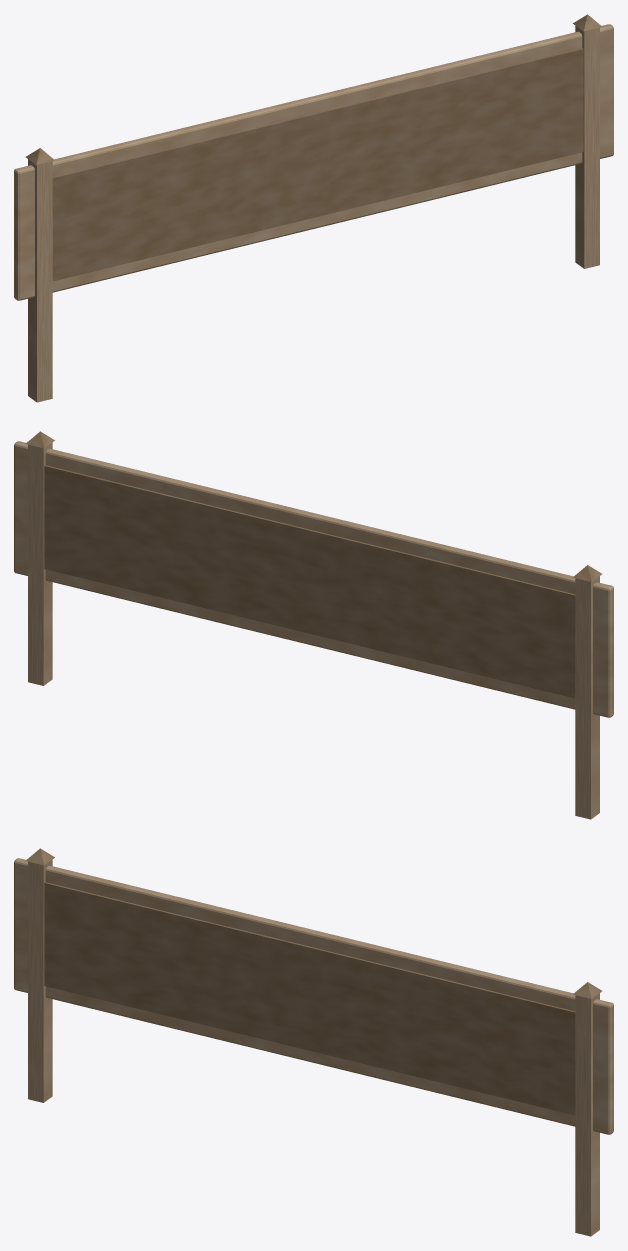
Rendered from sign.glb.
3 renders of one model, top to bottom at view 1: azimuth 30°, elevation 25°; view 2: azimuth 150°, elevation 25°; view 3: azimuth 330°, elevation 25°, orthographic.
Parts seen in each view (by area): view 1: Cube.007, Cube.005, Cube.003, Cube.004; view 2: Cube.006, Cube.005, Cube.003, Cube.004; view 3: Cube.007, Cube.005, Cube.004, Cube.003.
Boxes of the visible parts, left/top/right/bottom form: Cube.007: left=52, top=48, right=583, bottom=281; Cube.005: left=14, top=24, right=613, bottom=300; Cube.003: left=28, top=159, right=52, bottom=402; Cube.004: left=575, top=26, right=599, bottom=268; Cube.006: left=44, top=465, right=575, bottom=698; Cube.005: left=14, top=441, right=613, bottom=717; Cube.003: left=575, top=576, right=599, bottom=819; Cube.004: left=28, top=443, right=52, bottom=685; Cube.007: left=44, top=882, right=575, bottom=1115; Cube.005: left=14, top=858, right=613, bottom=1134; Cube.004: left=575, top=993, right=599, bottom=1236; Cube.003: left=28, top=860, right=52, bottom=1102.
Size of the model in its own units: 5.76 by 2.3 by 0.1838.
Materials: 2 (2 with a texture image).
